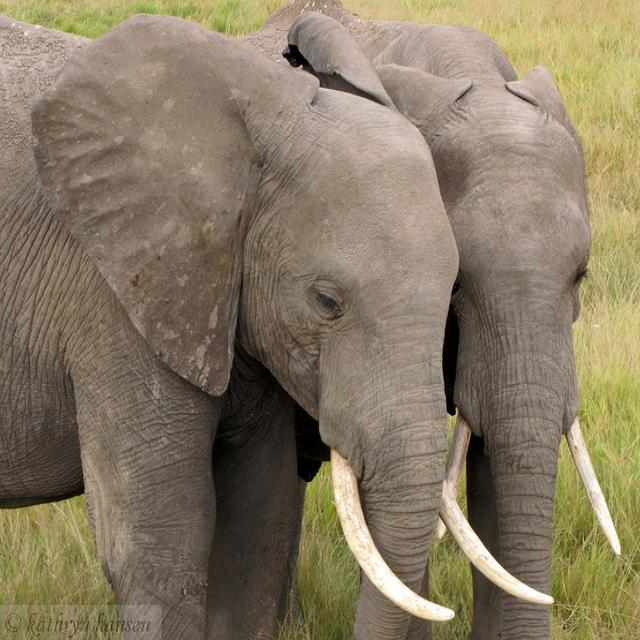Elephant: (0, 9, 460, 639), (238, 0, 622, 638)
